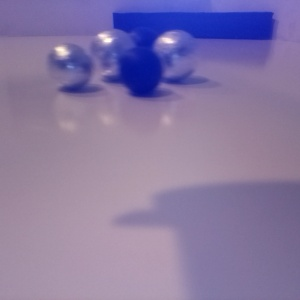alive_ball: (23, 12, 64, 55)
